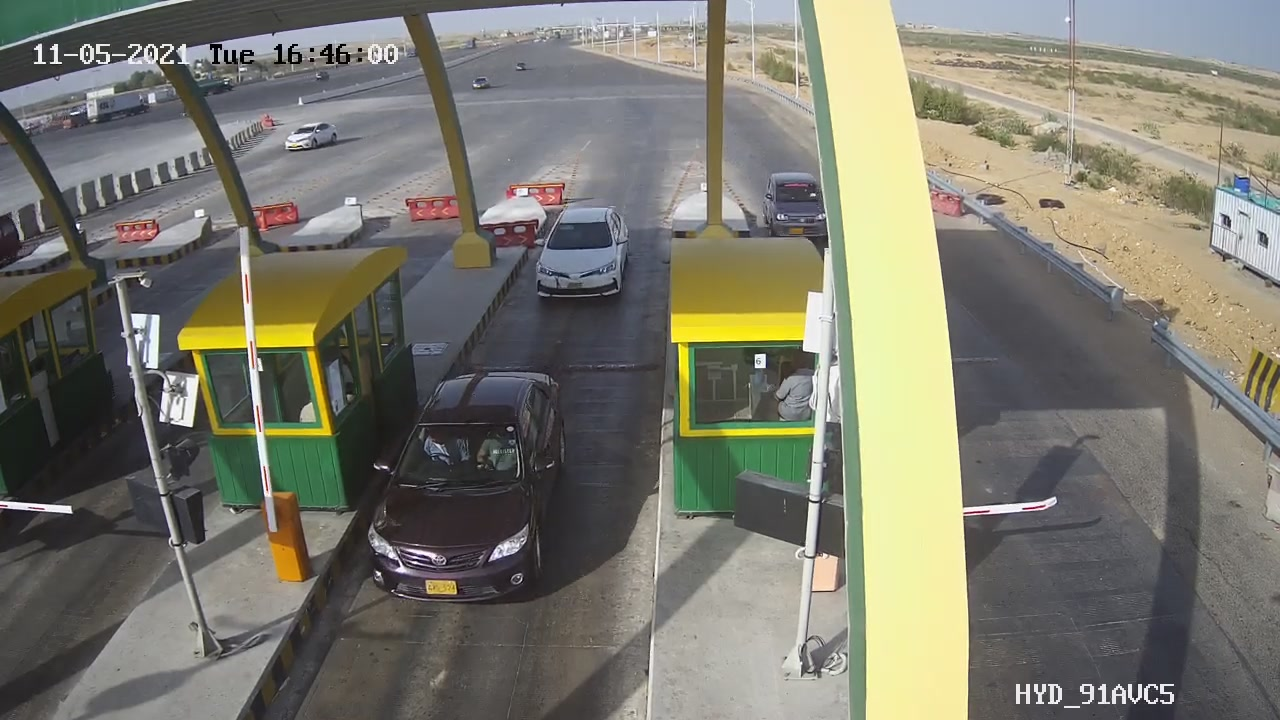F1: (346, 353, 596, 627), (516, 192, 645, 324)
